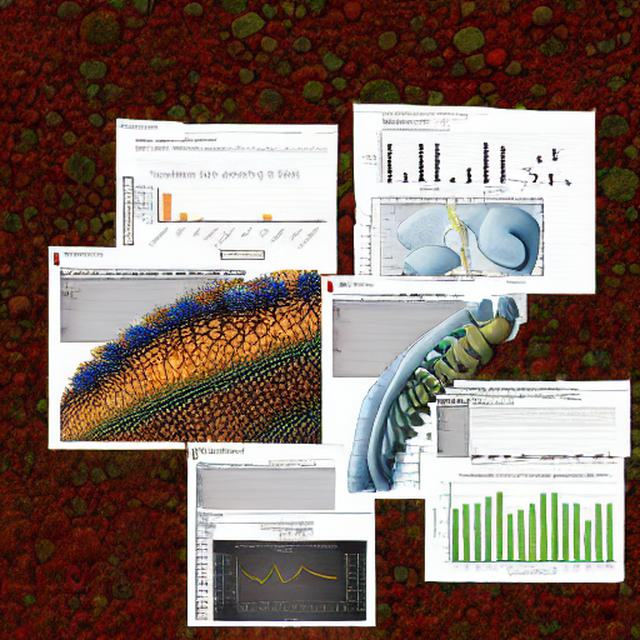Graph: (118, 164, 333, 266), (428, 467, 621, 580), (220, 543, 342, 621), (363, 126, 479, 193)
